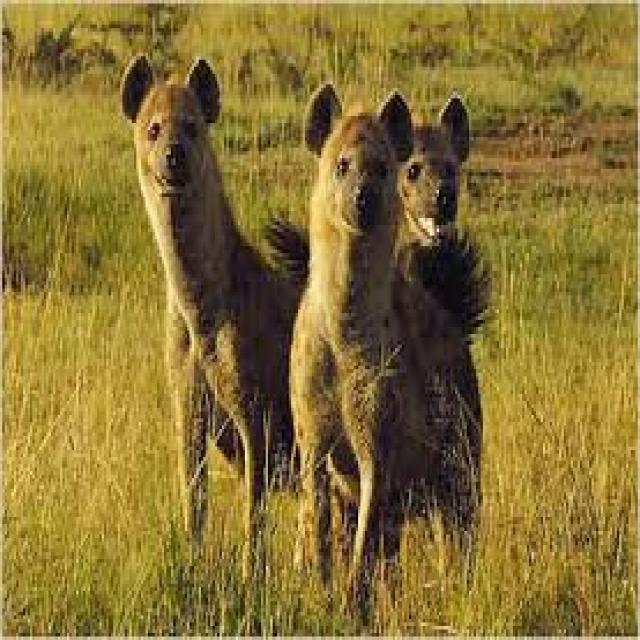Hyena: (288, 80, 491, 566), (119, 54, 286, 548)
